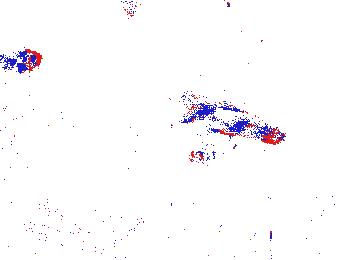X-ray fish: (81, 207, 140, 235)
red belly glassfish: (8, 49, 41, 70), (187, 145, 216, 165)
redtail glassfish: (188, 96, 284, 144), (74, 1, 142, 20)
